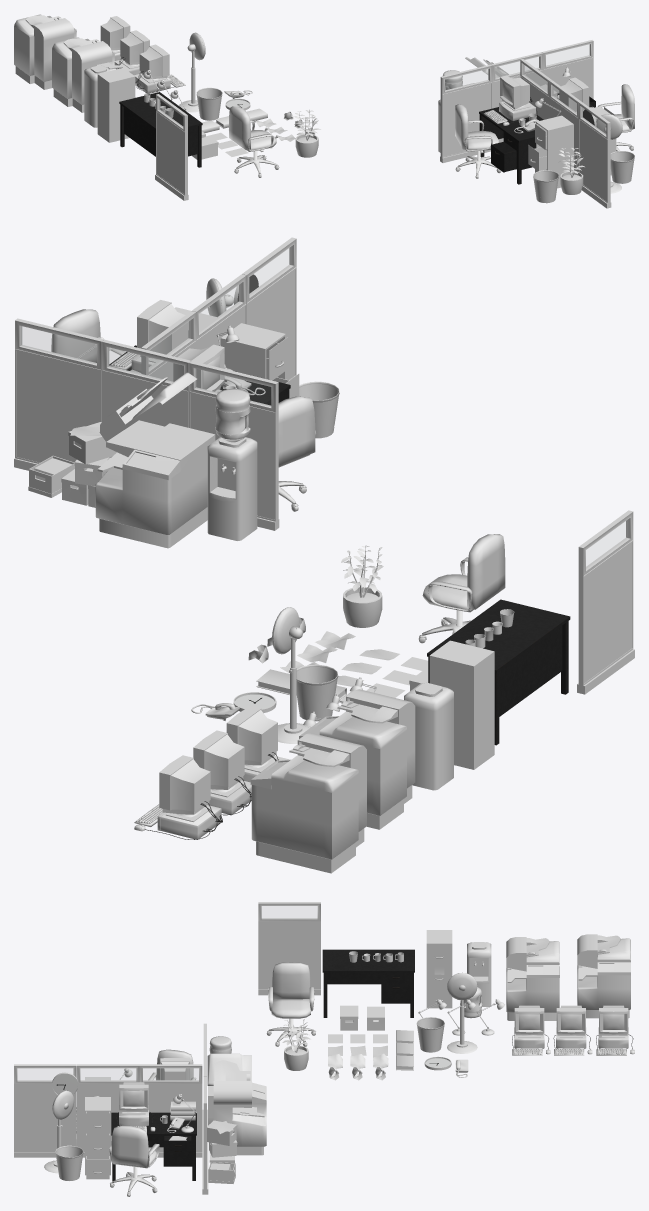
File: 90s-retro-office-pack.fbx
3 views of the same model, one above another, from view 1: azimuth 30°, elevation 25°; view 2: azimuth 150°, elevation 25°; view 3: azimuth 270°, elevation 25° (orthographic). The views are drawn at different scales.
Visible parts, largest first — view 1: node_e2ed3240_b7b1_49a7_a8dd_641143783a29_mesh0, node_3a49a8ec_7daf_43b7_93eb_93d4c8ff08b1_mesh0, node_46e686da_19e1_4bc8_8a91_82c5c0e764d2_mesh0, node_9a856376_df11_4d21_bee8_70ee039e08a8_mesh0, node_87e6ab4d_6f64_47d2_9d54_45e1c490714d_mesh0, node_adced61e_0cd6_4774_96ca_63e11b2aa0f4_mesh0, node_525b4a3a_0119_4448_bbce_d8fc61ca8e86_mesh0, node_e64b0435_fda7_4950_accb_50ecb3d84178_mesh0, node_ce65e121_3fa1_4905_beaa_1bd42e2f2955_mesh0, node_e2ed3240_b7b1_49a7_a8dd_641143783a29_mesh1, node_2a0df211_5b56_494c_8f55_fe767db1ffa9_mesh0, node_10beddf6_8f93_4571_80a2_9d050b14c7df_mesh0 (+23 smaller); view 2: node_e2ed3240_b7b1_49a7_a8dd_641143783a29_mesh0, node_a9328724_2f12_45d7_8c99_ad94f1f78883_mesh0, node_adced61e_0cd6_4774_96ca_63e11b2aa0f4_mesh0, node_46e686da_19e1_4bc8_8a91_82c5c0e764d2_mesh0, node_9a856376_df11_4d21_bee8_70ee039e08a8_mesh0, node_3a49a8ec_7daf_43b7_93eb_93d4c8ff08b1_mesh0, node_87e6ab4d_6f64_47d2_9d54_45e1c490714d_mesh0, node_1efe4bf3_05e0_425a_a936_09b4b40abc7c_mesh0, node_525b4a3a_0119_4448_bbce_d8fc61ca8e86_mesh0, node_e2ed3240_b7b1_49a7_a8dd_641143783a29_mesh1, node_50395474_28aa_444c_b7c4_a4d280834f93_mesh0, node_2a0df211_5b56_494c_8f55_fe767db1ffa9_mesh0 (+20 smaller); view 3: node_3a49a8ec_7daf_43b7_93eb_93d4c8ff08b1_mesh0, node_46e686da_19e1_4bc8_8a91_82c5c0e764d2_mesh0, node_9a856376_df11_4d21_bee8_70ee039e08a8_mesh0, node_525b4a3a_0119_4448_bbce_d8fc61ca8e86_mesh0, node_adced61e_0cd6_4774_96ca_63e11b2aa0f4_mesh0, node_a9328724_2f12_45d7_8c99_ad94f1f78883_mesh0, node_0dd90b39_811f_4e6c_a5b5_635aeebc696e_mesh0, node_fefec307_c882_41c9_9da6_6e40fc50af46_mesh0, node_3a49a8ec_7daf_43b7_93eb_93d4c8ff08b1_mesh1, node_25118873_1948_4ed3_bfba_c287c7cc51a6_mesh0, node_2a0df211_5b56_494c_8f55_fe767db1ffa9_mesh0, node_10beddf6_8f93_4571_80a2_9d050b14c7df_mesh0 (+27 smaller).
Boxes of the visible parts, left/top/right/bottom form: node_e2ed3240_b7b1_49a7_a8dd_641143783a29_mesh0: left=440, top=40, right=593, bottom=162; node_3a49a8ec_7daf_43b7_93eb_93d4c8ff08b1_mesh0: left=520, top=59, right=611, bottom=208; node_46e686da_19e1_4bc8_8a91_82c5c0e764d2_mesh0: left=155, top=94, right=188, bottom=200; node_9a856376_df11_4d21_bee8_70ee039e08a8_mesh0: left=119, top=92, right=202, bottom=167; node_87e6ab4d_6f64_47d2_9d54_45e1c490714d_mesh0: left=97, top=67, right=135, bottom=142; node_adced61e_0cd6_4774_96ca_63e11b2aa0f4_mesh0: left=14, top=26, right=76, bottom=89; node_525b4a3a_0119_4448_bbce_d8fc61ca8e86_mesh0: left=52, top=49, right=121, bottom=112; node_e64b0435_fda7_4950_accb_50ecb3d84178_mesh0: left=536, top=115, right=573, bottom=188; node_ce65e121_3fa1_4905_beaa_1bd42e2f2955_mesh0: left=479, top=107, right=543, bottom=184; node_e2ed3240_b7b1_49a7_a8dd_641143783a29_mesh1: left=445, top=45, right=589, bottom=90; node_2a0df211_5b56_494c_8f55_fe767db1ffa9_mesh0: left=52, top=37, right=112, bottom=65; node_10beddf6_8f93_4571_80a2_9d050b14c7df_mesh0: left=14, top=14, right=74, bottom=42; node_e2ed3240_b7b1_49a7_a8dd_641143783a29_mesh0: left=14, top=318, right=279, bottom=530; node_a9328724_2f12_45d7_8c99_ad94f1f78883_mesh0: left=95, top=420, right=215, bottom=548; node_adced61e_0cd6_4774_96ca_63e11b2aa0f4_mesh0: left=250, top=759, right=366, bottom=873; node_46e686da_19e1_4bc8_8a91_82c5c0e764d2_mesh0: left=577, top=510, right=634, bottom=694; node_9a856376_df11_4d21_bee8_70ee039e08a8_mesh0: left=427, top=599, right=570, bottom=745; node_3a49a8ec_7daf_43b7_93eb_93d4c8ff08b1_mesh0: left=141, top=237, right=296, bottom=381; node_87e6ab4d_6f64_47d2_9d54_45e1c490714d_mesh0: left=429, top=640, right=494, bottom=769; node_1efe4bf3_05e0_425a_a936_09b4b40abc7c_mesh0: left=207, top=437, right=257, bottom=540; node_525b4a3a_0119_4448_bbce_d8fc61ca8e86_mesh0: left=299, top=716, right=415, bottom=829; node_e2ed3240_b7b1_49a7_a8dd_641143783a29_mesh1: left=21, top=326, right=270, bottom=406; node_50395474_28aa_444c_b7c4_a4d280834f93_mesh0: left=404, top=682, right=453, bottom=790; node_2a0df211_5b56_494c_8f55_fe767db1ffa9_mesh0: left=319, top=689, right=415, bottom=749; node_3a49a8ec_7daf_43b7_93eb_93d4c8ff08b1_mesh0: left=14, top=1064, right=202, bottom=1157; node_46e686da_19e1_4bc8_8a91_82c5c0e764d2_mesh0: left=258, top=902, right=320, bottom=995; node_9a856376_df11_4d21_bee8_70ee039e08a8_mesh0: left=322, top=949, right=414, bottom=1017; node_525b4a3a_0119_4448_bbce_d8fc61ca8e86_mesh0: left=506, top=964, right=559, bottom=1020; node_adced61e_0cd6_4774_96ca_63e11b2aa0f4_mesh0: left=577, top=962, right=630, bottom=1018; node_a9328724_2f12_45d7_8c99_ad94f1f78883_mesh0: left=208, top=1082, right=266, bottom=1155; node_0dd90b39_811f_4e6c_a5b5_635aeebc696e_mesh0: left=207, top=1053, right=251, bottom=1104; node_fefec307_c882_41c9_9da6_6e40fc50af46_mesh0: left=271, top=962, right=310, bottom=1018; node_3a49a8ec_7daf_43b7_93eb_93d4c8ff08b1_mesh1: left=18, top=1069, right=198, bottom=1080; node_25118873_1948_4ed3_bfba_c287c7cc51a6_mesh0: left=111, top=1125, right=156, bottom=1168; node_2a0df211_5b56_494c_8f55_fe767db1ffa9_mesh0: left=506, top=937, right=559, bottom=964; node_10beddf6_8f93_4571_80a2_9d050b14c7df_mesh0: left=577, top=934, right=630, bottom=961.
Size of what is drawn, in the model's own units: 680 by 143 by 869.
Materials: 69 (1 with a texture image).
